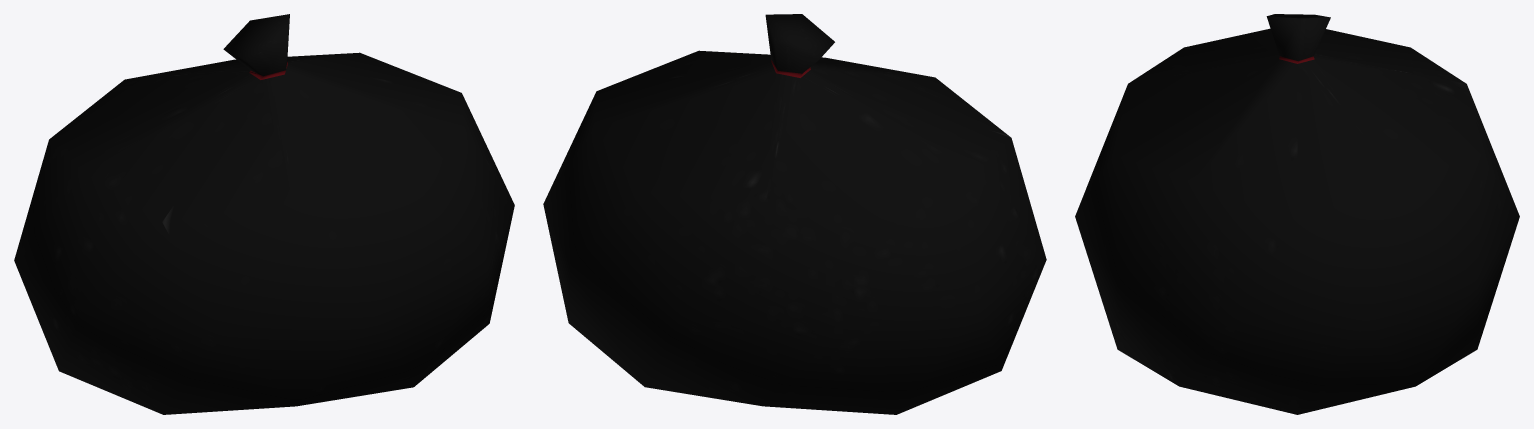
The model's file is trashbag_1.glb.
3 renders of one model, left to right at view 1: azimuth 30°, elevation 25°; view 2: azimuth 150°, elevation 25°; view 3: azimuth 270°, elevation 25°, orthographic.
Visible parts, largest first — view 1: TrashBag_1; view 2: TrashBag_1; view 3: TrashBag_1.
Part boxes in pixels (<box>): TrashBag_1: <box>14,14,514,414</box>; TrashBag_1: <box>543,14,1046,414</box>; TrashBag_1: <box>1075,14,1519,414</box>.
Bounding box in the file's own units: 1.78 × 1.32 × 1.58.
1 material, 1 textured.
